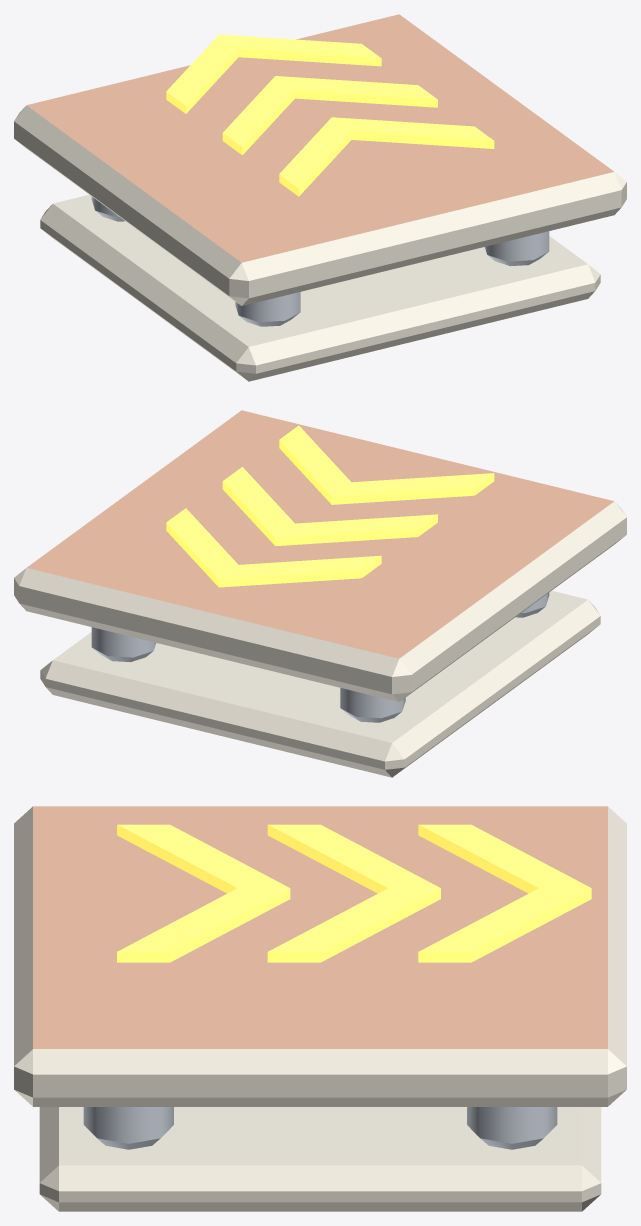
Rendered from R4D_KnockbackTrap_LOD1.fbx.
3 views of the same model, one above another, from view 1: azimuth 30°, elevation 25°; view 2: azimuth 150°, elevation 25°; view 3: azimuth 270°, elevation 25° (orthographic). The views are drawn at different scales.
Parts seen in each view (by area): view 1: R4D_KnockbackTrap_LOD1; view 2: R4D_KnockbackTrap_LOD1; view 3: R4D_KnockbackTrap_LOD1.
Part boxes in pixels (left/top/right/bottom): R4D_KnockbackTrap_LOD1: left=14, top=14, right=626, bottom=381; R4D_KnockbackTrap_LOD1: left=14, top=410, right=626, bottom=777; R4D_KnockbackTrap_LOD1: left=14, top=806, right=626, bottom=1211.
Bounding box in the file's own units: 0.48 × 0.1841 × 0.48.
